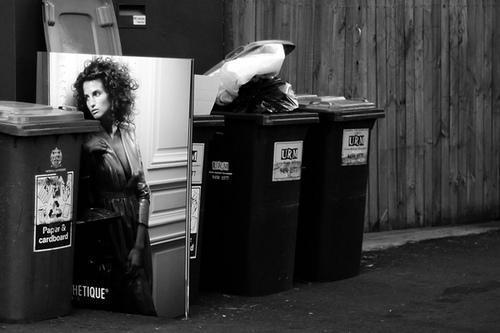Bote de Basura: (179, 76, 338, 295), (0, 91, 93, 324), (272, 82, 372, 275), (156, 112, 234, 307)
